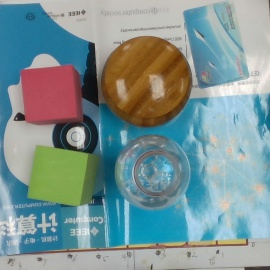bottle: (114, 134, 191, 210)
card: (184, 1, 250, 87)
chess: (101, 35, 193, 129)
